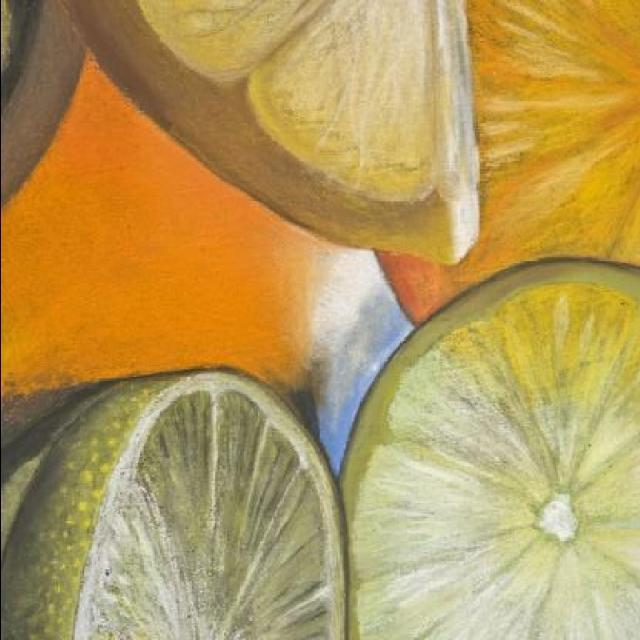Lemon: (338, 255, 640, 639), (52, 0, 480, 263), (0, 366, 348, 640)
